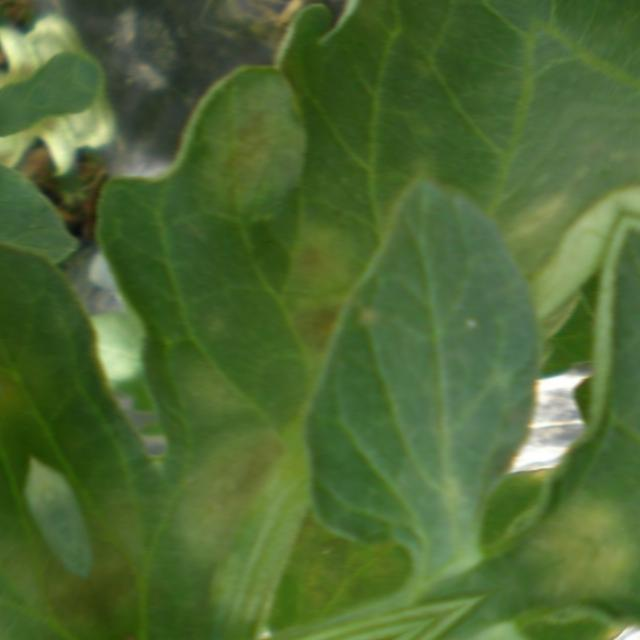Tomato mold leaf: (0, 0, 640, 640), (0, 0, 485, 177), (438, 0, 640, 422), (509, 338, 640, 556)
